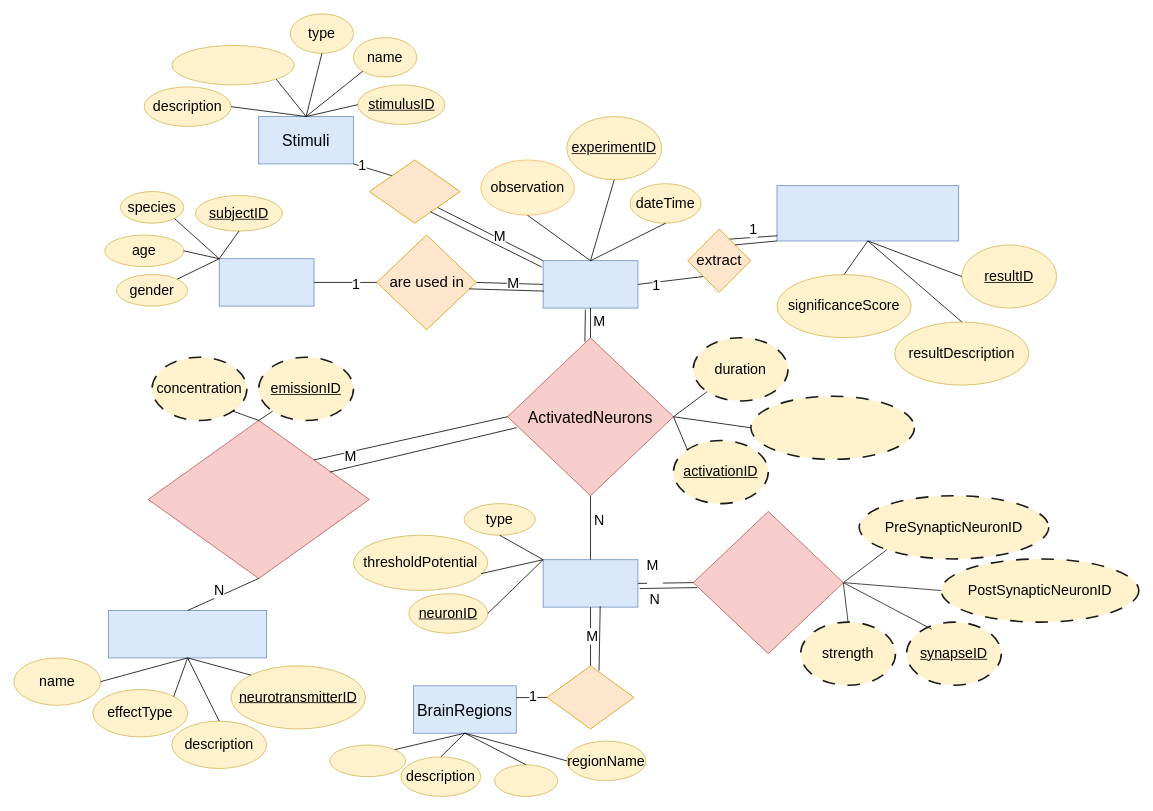
This 1153x811 diagram has some shape labels left out. The shapes that lost their labels are listed below. From the top down, each one's box as (x1, y1, x2, y2) in pixels, then its label:
(171, 45, 294, 85): intensityOrDose
(369, 159, 460, 223): included in
(776, 185, 959, 241): ExperimentResults
(218, 258, 314, 306): Subjects
(542, 260, 638, 308): Experiments
(750, 395, 915, 460): activationStrength
(147, 420, 369, 578): EmittedNeurotransmitters
(542, 559, 638, 607): Neurons
(692, 511, 843, 654): Synapses
(108, 610, 267, 658): Neurotransmitters
(546, 665, 634, 729): belong to
(329, 744, 406, 777): regionID
(494, 764, 558, 796): function
